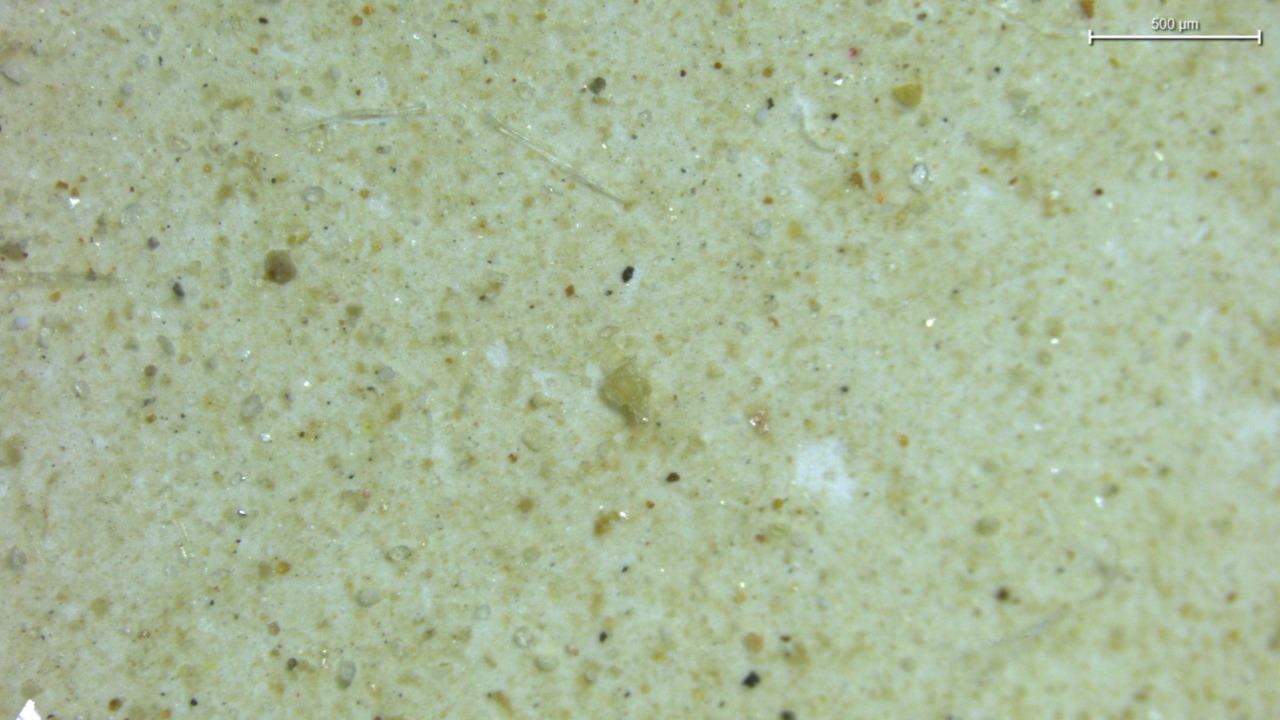microplastic_fragment: (599, 357, 650, 425)
